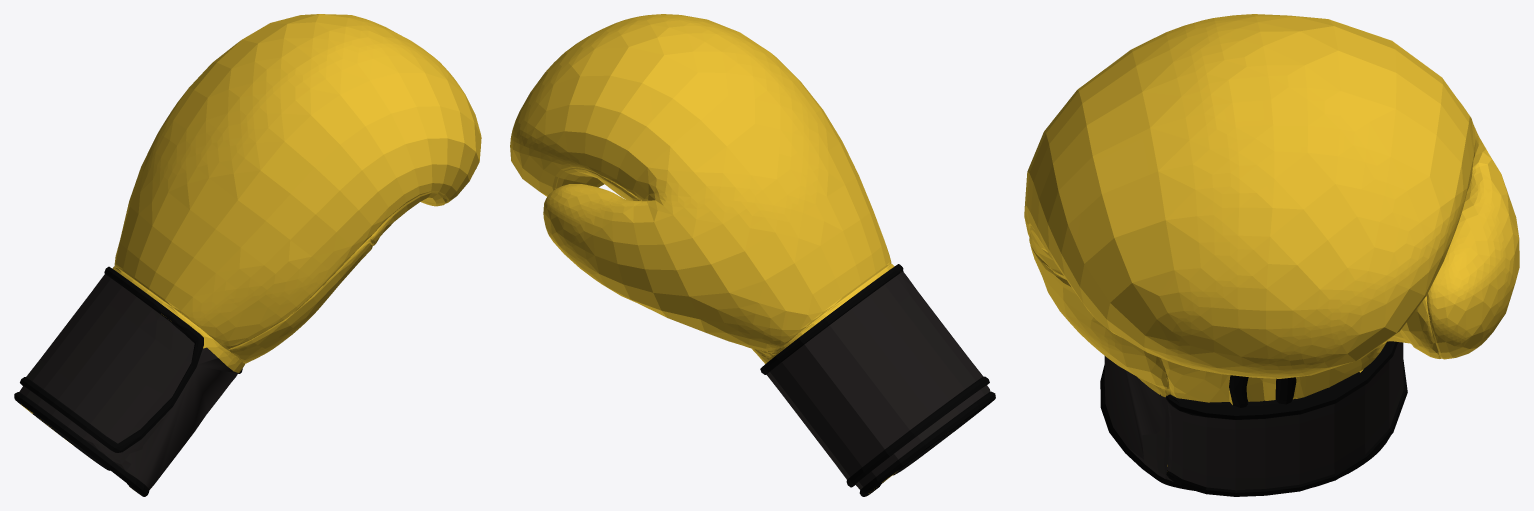
The model's file is Yellow_Right.fbx.
3 views of the same model, side by side, from view 1: azimuth 30°, elevation 25°; view 2: azimuth 150°, elevation 25°; view 3: azimuth 270°, elevation 25° (orthographic). The views are drawn at different scales.
Visible parts, largest first — view 1: 15969_Boxing_Glove_new; view 2: 15969_Boxing_Glove_new; view 3: 15969_Boxing_Glove_new.
Part boxes in pixels (x1=…): 15969_Boxing_Glove_new: x1=14, y1=14, x2=481, y2=496; 15969_Boxing_Glove_new: x1=510, y1=14, x2=995, y2=496; 15969_Boxing_Glove_new: x1=1024, y1=14, x2=1519, y2=496.
Bounding box in the file's own units: 2146 × 1903 × 1369.
